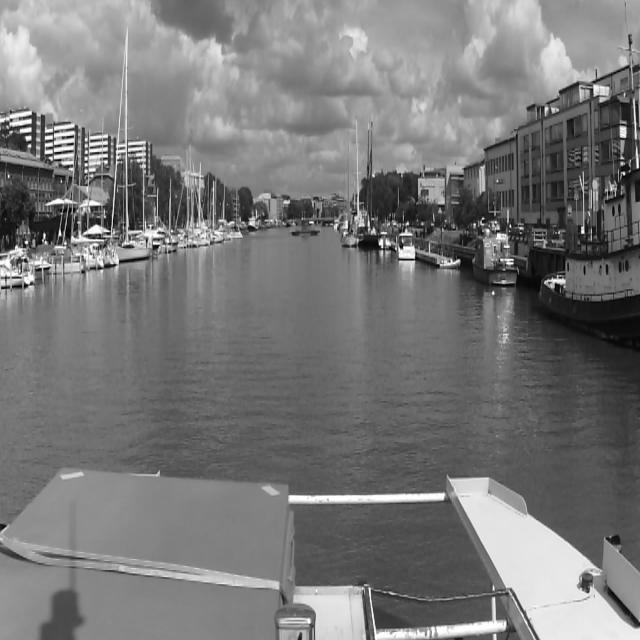ship: (537, 170, 639, 334), (100, 23, 154, 262), (59, 123, 110, 273), (86, 117, 120, 267), (356, 117, 382, 250), (471, 224, 519, 286), (341, 133, 358, 247), (3, 248, 52, 278), (398, 234, 414, 260), (288, 225, 320, 235), (380, 233, 391, 251), (248, 219, 258, 230), (340, 218, 348, 230)
